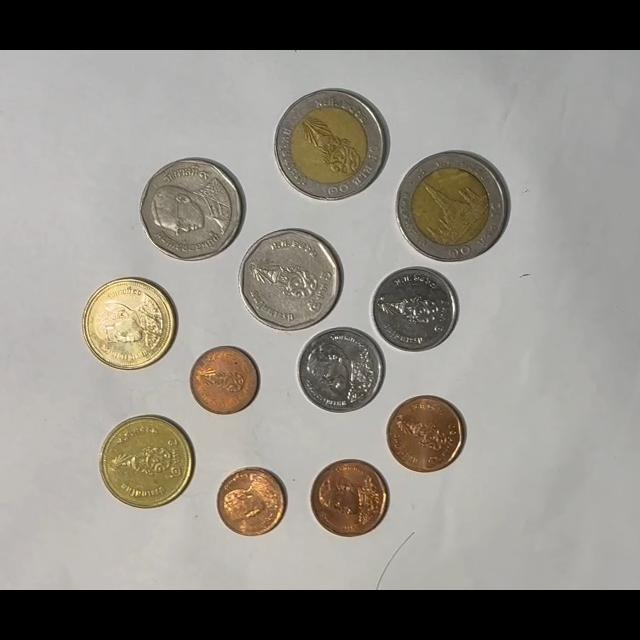1-baht: (297, 326, 385, 414), (371, 265, 459, 352)
10-baht: (274, 88, 389, 203), (395, 150, 508, 261)
2-baht: (99, 415, 194, 509), (82, 277, 175, 372)
25-satang: (216, 467, 288, 537), (189, 345, 260, 415)
5-baht: (238, 228, 342, 333), (140, 158, 244, 261)
50-satang: (386, 395, 466, 473), (310, 459, 389, 537)
